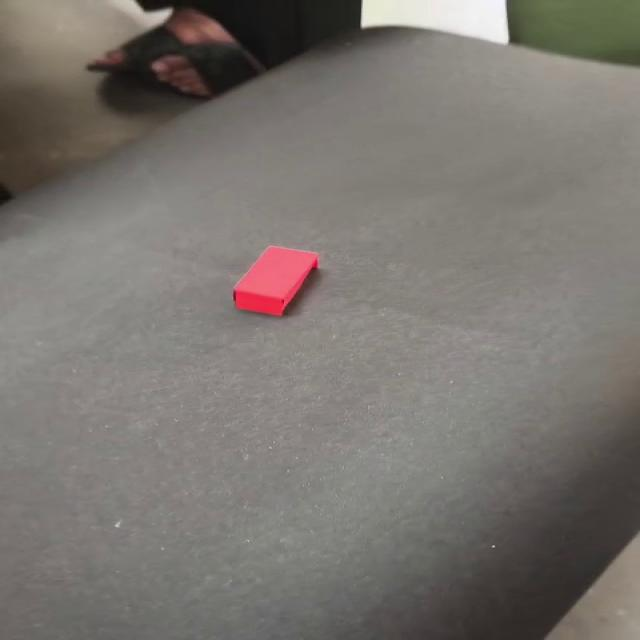red block: (230, 244, 318, 316)
